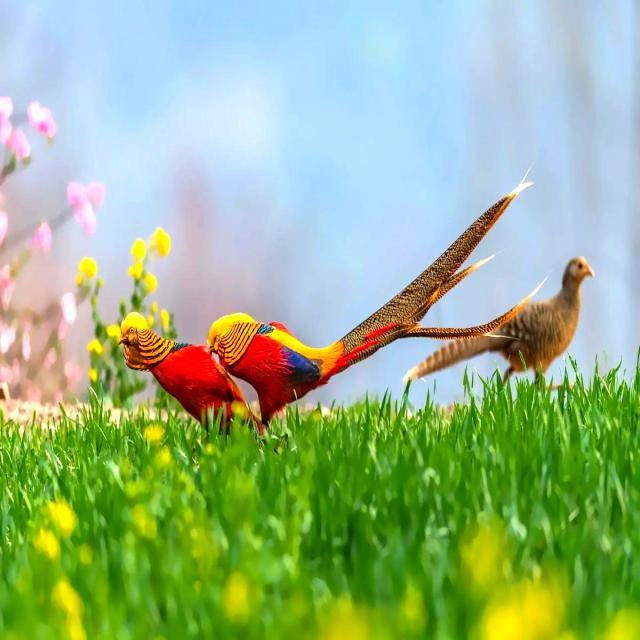Chrysolophus pictus feather: (341, 160, 535, 366), (412, 273, 550, 340)
